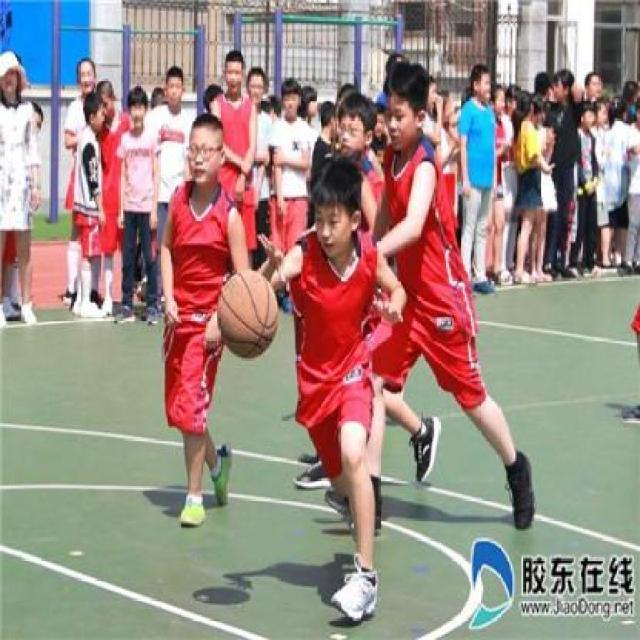basketball: (218, 270, 278, 362)
